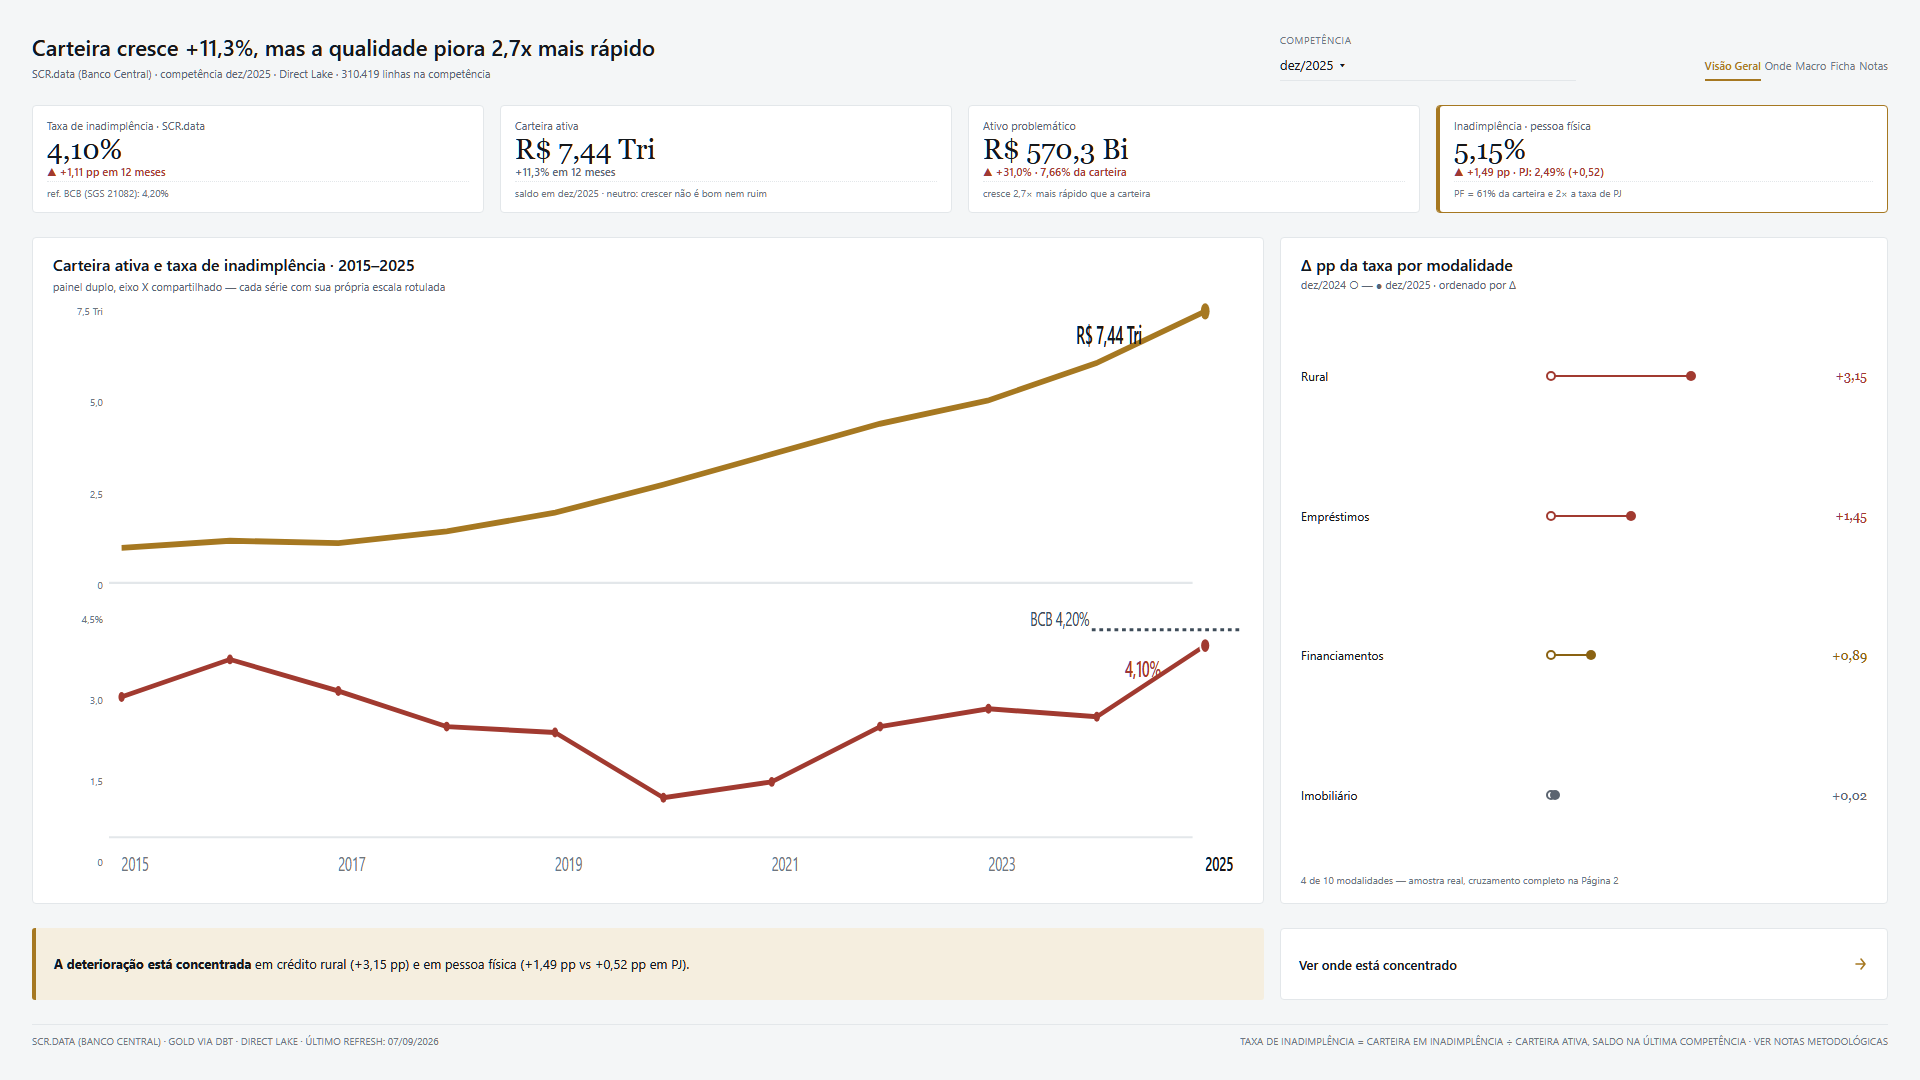

What the dashboard file says about the page in this screenshot:
{"tool":"powerbi","page":{"name":"Página 1","canvas":[1920,1080],"ordinal":0},"visuals":[{"type":"textbox","box":[32,32,1232,72],"z":0},{"type":"slicer","fields":{"Values":["dim_calendario.ano_mes"]},"box":[1279.8,31.9,295.5,72.3],"z":1000},{"type":"pageNavigator","box":[1592,32,296,72],"z":2000},{"type":"cardVisual","fields":{"Data":["fato_credito.Taxa de Inadimplência (SCR.data)"]},"box":[31.9,127.6,452.8,160],"z":3000},{"type":"cardVisual","fields":{"Data":["fato_credito.Carteira Ativa"]},"box":[499.6,127.6,452.8,160],"z":4000},{"type":"cardVisual","fields":{"Data":["fato_credito.Ativo Problemático"]},"box":[967.3,127.6,452.8,160],"z":5000},{"type":"cardVisual","fields":{"Data":["fato_credito.Taxa de Inadimplência PF"]},"box":[1435,127.6,452.8,160],"z":6000},{"type":"lineChart","fields":{"Category":["dim_calendario.data"],"Y":["fato_credito.Carteira Ativa","fato_credito.Carteira Ativa · Rótulo Ponta"]},"box":[31.9,352,1232,270],"z":7000},{"type":"lineChart","fields":{"Category":["dim_calendario.data"],"Y":["fato_credito.Taxa de Inadimplência (SCR.data)","fato_credito.Taxa de Inadimplência · Rótulo Ponta"]},"box":[32.5,622.5,1232,270],"z":8000},{"type":"textbox","box":[31.7,286.7,1233.3,65],"z":9000},{"type":"textbox","box":[32.5,912.5,1232.5,105],"z":10000},{"type":"actionButton","title":"Ver onde está concentrado","box":[1280,912.5,607.5,107.5],"z":11000},{"type":"textbox","box":[25,1020,1855,60],"z":11001},{"type":"deneb7E15AEF80B9E4D4F8E12924291ECE89A","fields":{"dataset":["dim_modalidade.modalidade","fato_credito.Taxa de Inadimplência (dez/2024)","fato_credito.Taxa de Inadimplência (dez/2025)","fato_credito.Dumbbell · Δpp Modalidade","fato_credito.Dumbbell · Elegivel (Materialidade)"]},"box":[1280,352.5,607.5,540],"z":11002}]}

Visuals, with their boxes in screenshot pixels (x1, y1, x2, y2), scaled from the page's 1920x1080 canvas onto the 1920x1080 screenshot:
textbox: 32:32:1264:104
slicer - dim_calendario.ano_mes: 1280:32:1575:104
pageNavigator: 1592:32:1888:104
cardVisual - fato_credito.Taxa de Inadimplência (SCR.data): 32:128:485:288
cardVisual - fato_credito.Carteira Ativa: 500:128:952:288
cardVisual - fato_credito.Ativo Problemático: 967:128:1420:288
cardVisual - fato_credito.Taxa de Inadimplência PF: 1435:128:1888:288
lineChart - dim_calendario.data x fato_credito.Carteira Ativa: 32:352:1264:622
lineChart - dim_calendario.data x fato_credito.Taxa de Inadimplência (SCR.data): 32:622:1264:892
textbox: 32:287:1265:352
textbox: 32:912:1265:1018
"Ver onde está concentrado" actionButton: 1280:912:1888:1020
textbox: 25:1020:1880:1079
deneb7E15AEF80B9E4D4F8E12924291ECE89A - dim_modalidade.modalidade x fato_credito.Taxa de Inadimplência (dez/2024): 1280:352:1888:892
